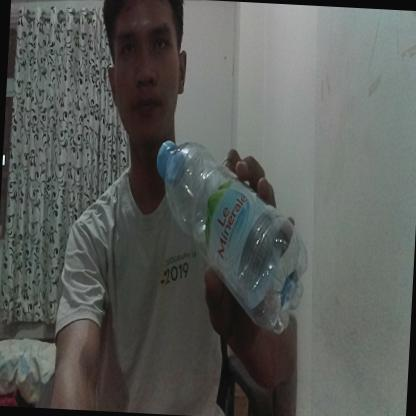plastic_bottles: (148, 136, 314, 332)
